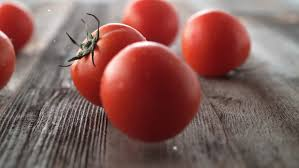tomato: (99, 40, 204, 143), (183, 10, 253, 78)
